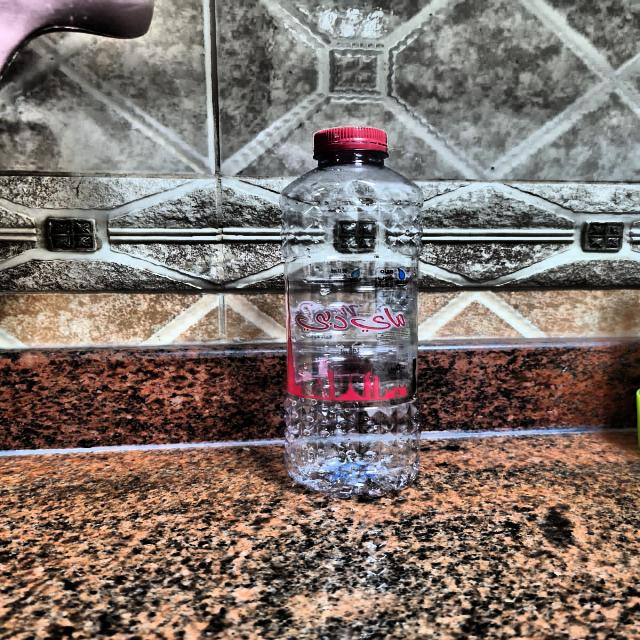Bottles: (251, 108, 478, 509)
